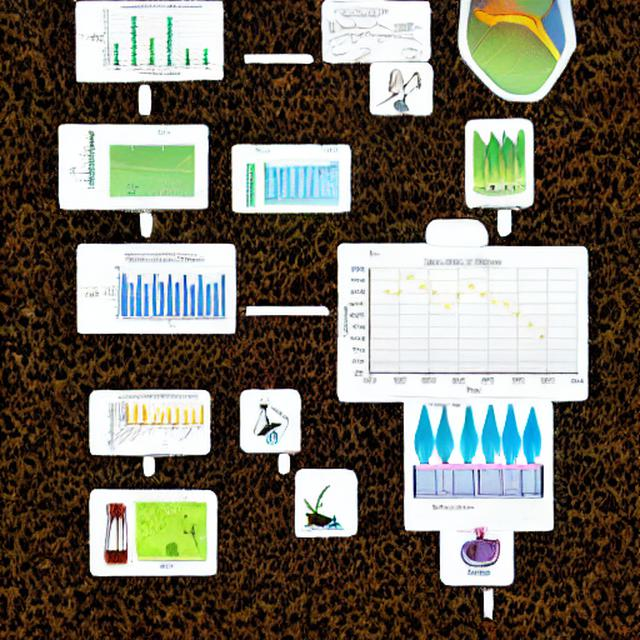Graph: (340, 256, 585, 395), (90, 1, 216, 78), (105, 256, 233, 331), (110, 394, 208, 450), (325, 9, 397, 51)
